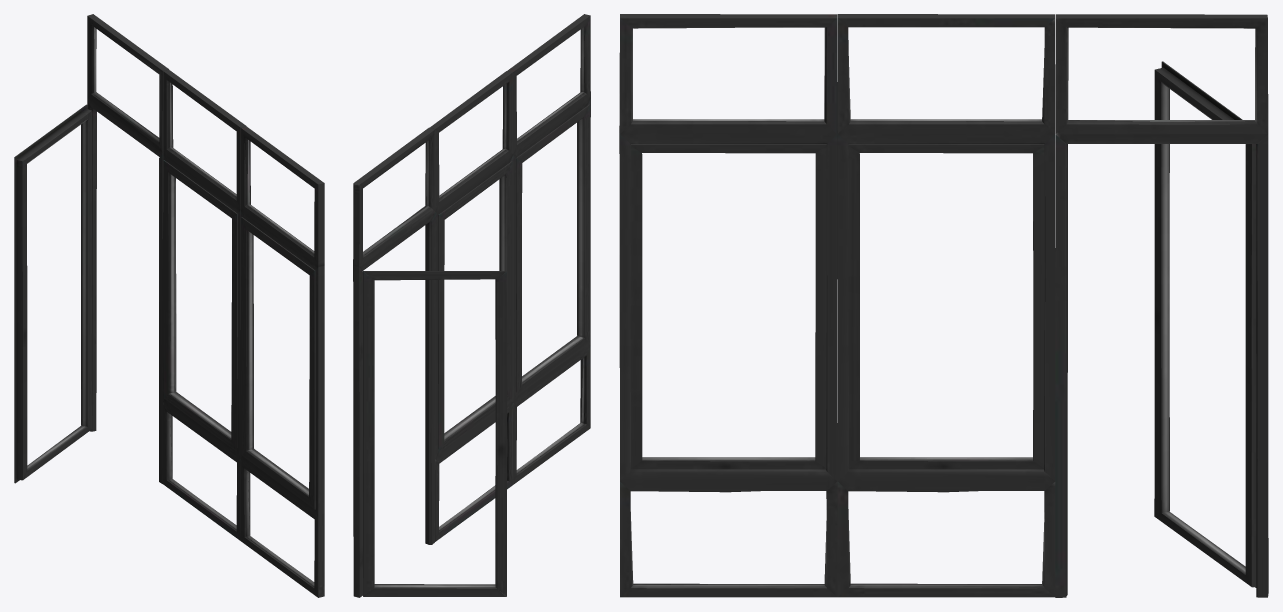
File: FrenchWindow3_0001.obj
3 renders of one model, left to right at view 1: azimuth 30°, elevation 25°; view 2: azimuth 150°, elevation 25°; view 3: azimuth 270°, elevation 25°, orthographic. The views are drawn at different scales.
Bounding box in the file's own units: 0.695 × 2.36 × 2.39.
Materials: 1 (1 with a texture image).
